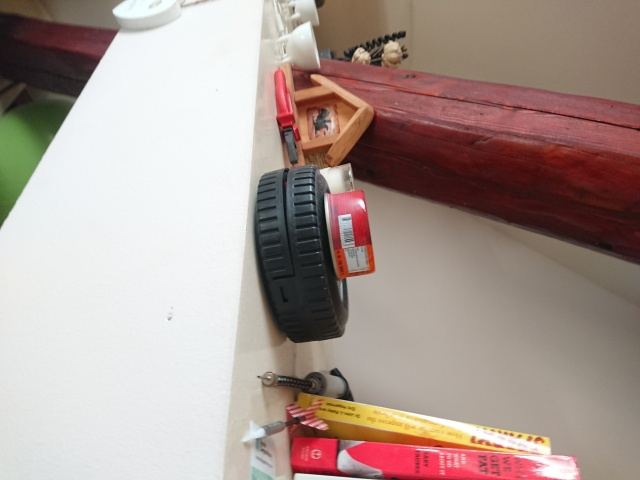Gavrilovic Pork Liver Pate 100g: (320, 187, 377, 280)
